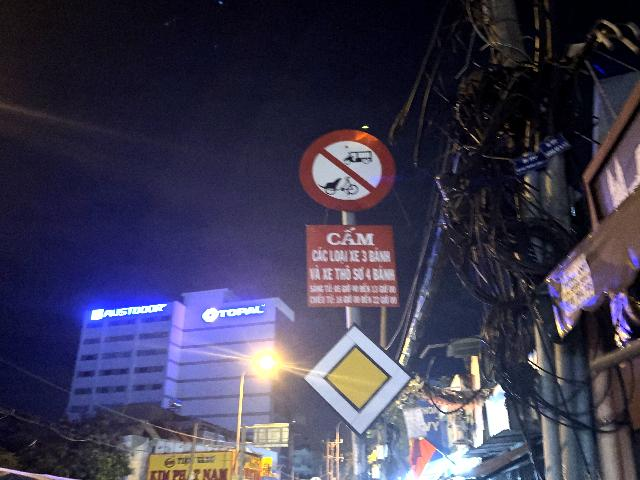bat-dau-duong-uu-tien: (300, 321, 415, 438)
cam-xe-3-banh-xe-tho-so-4-banh: (298, 128, 396, 212)
